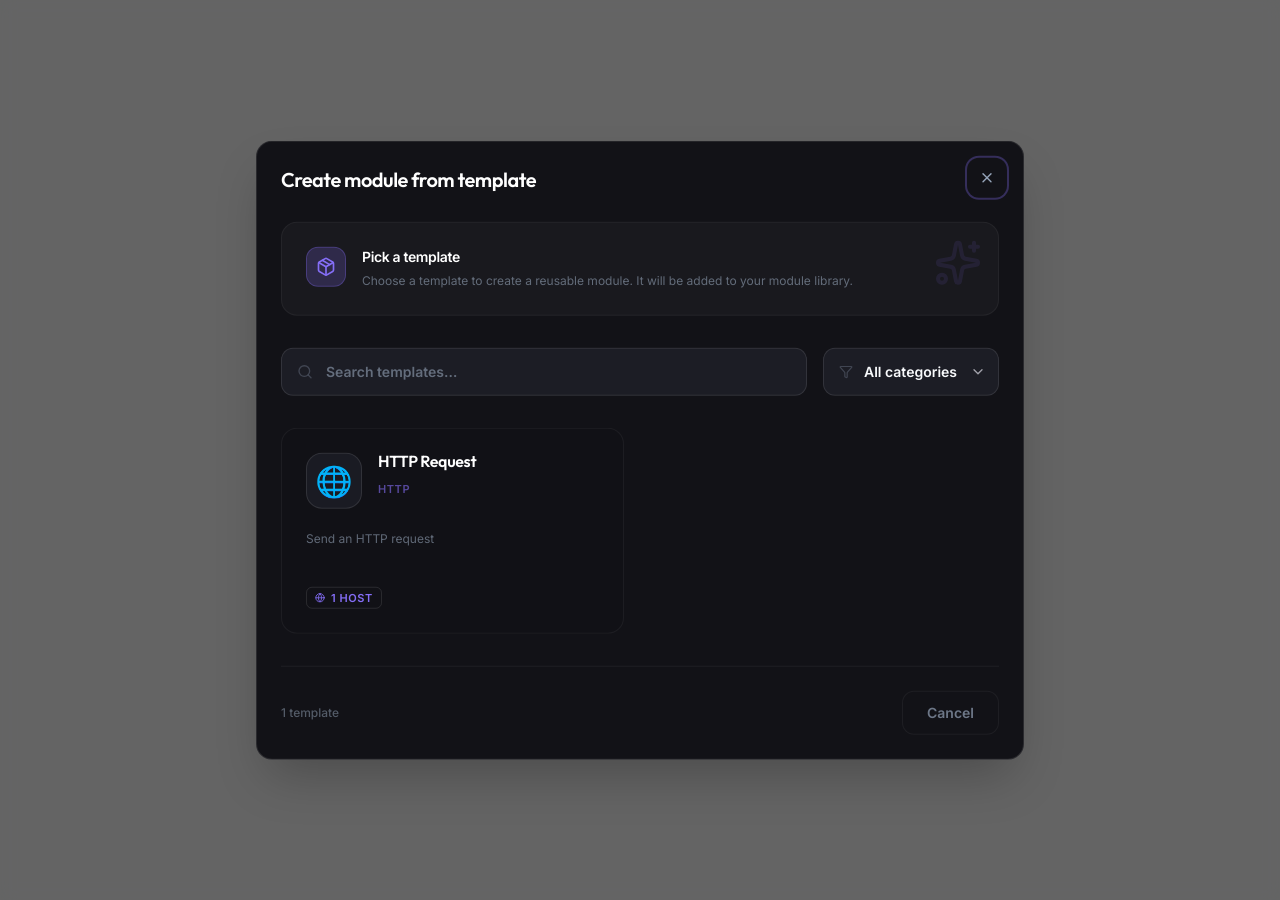
CreateModuleDialog › allows filtering templates by search query
The image size is (1280, 900).
expect the heading "HTTP Request" is shown: met, box [378, 450, 476, 470]
In the field with placeholder "Search templates…": (544, 371) [281, 347, 807, 395], type "Non-existent"
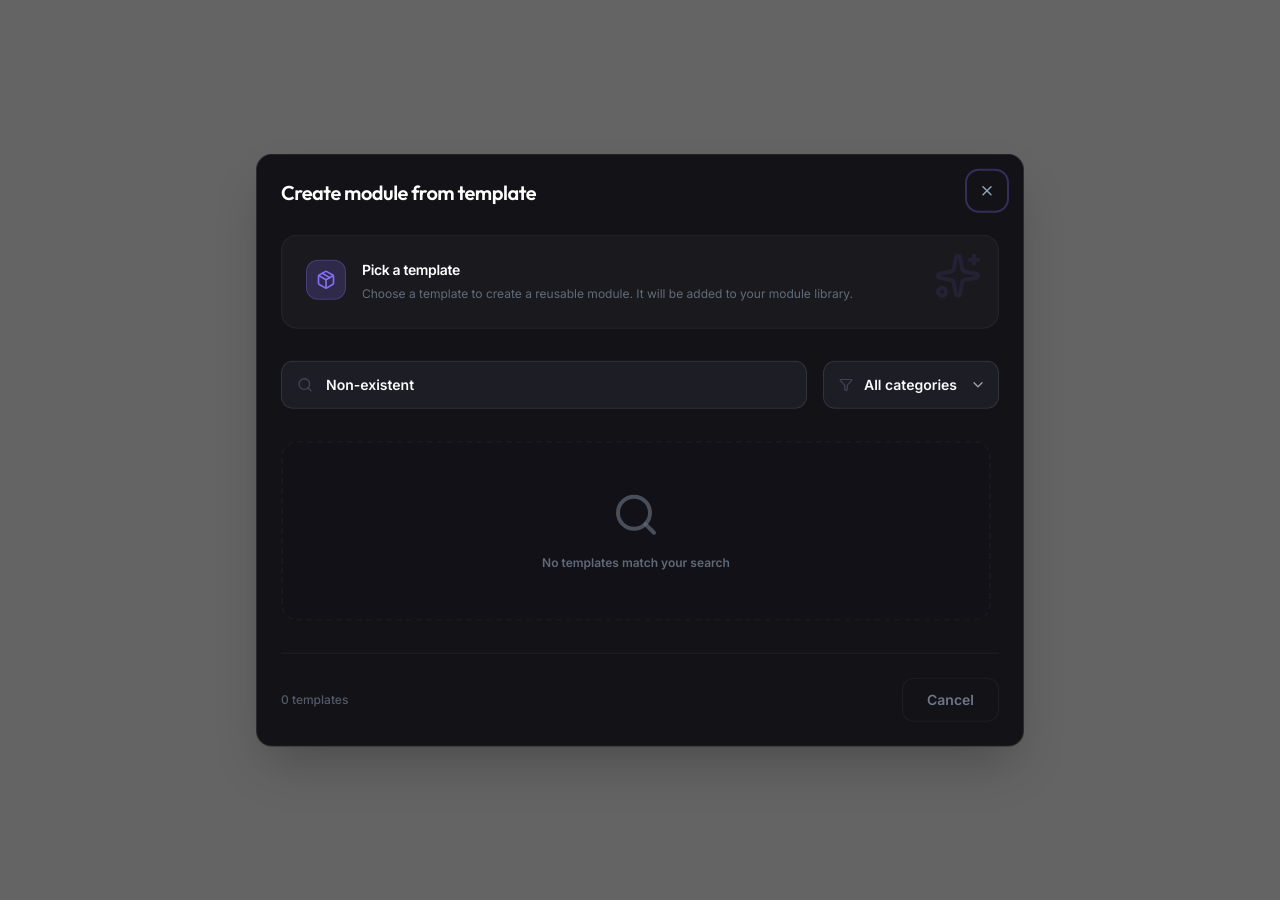
expect the text "No templates match your search" is shown: met, box [542, 554, 730, 570]
expect the button "HTTP Request" is gone: met
